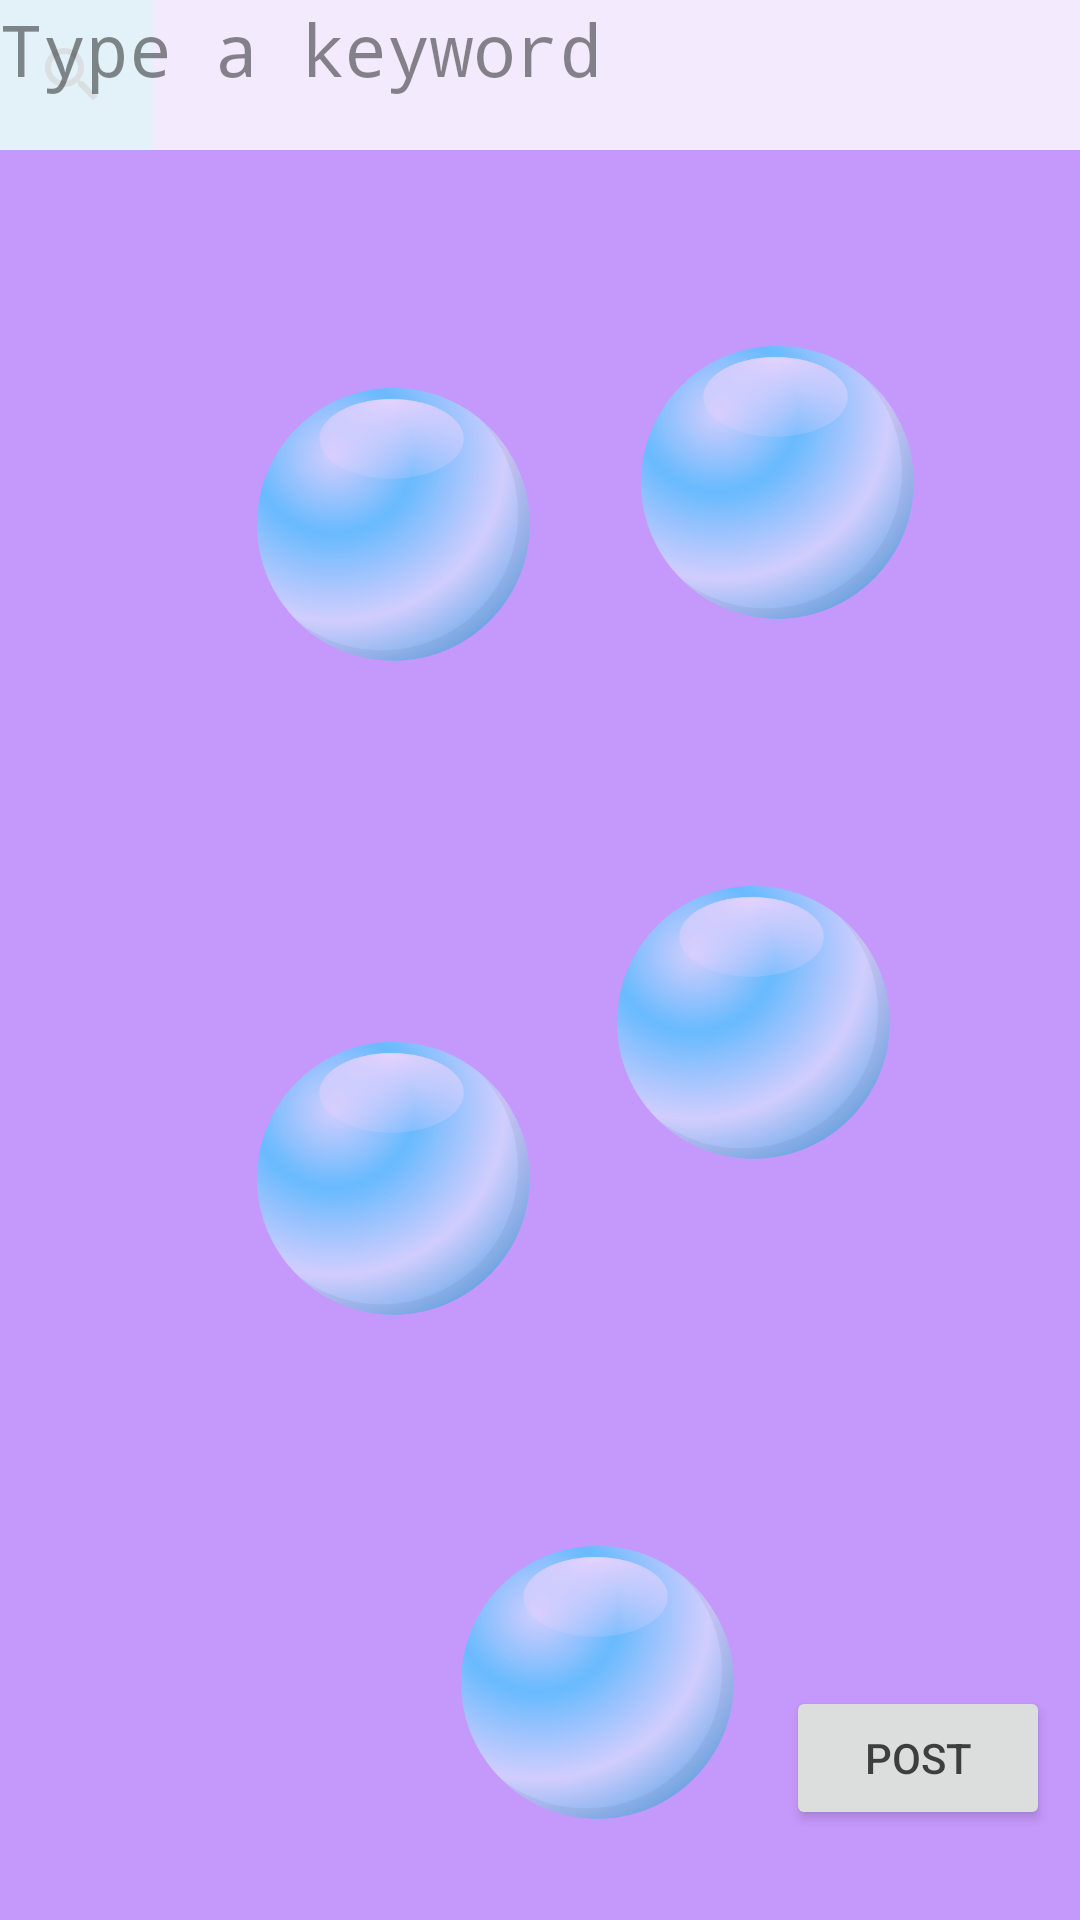

Icons on this 1080 x 1920 Android screen, each with its box as (x1, y1, x2, y2):
bubble: (641, 346, 914, 619), (257, 388, 530, 661), (617, 886, 890, 1159), (257, 1042, 530, 1315), (461, 1546, 734, 1819)
